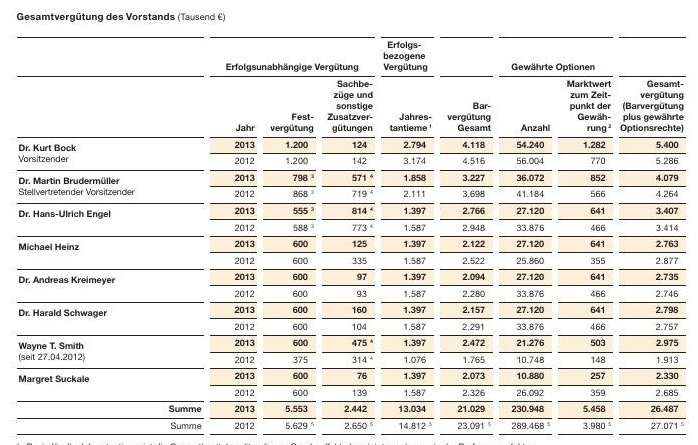table: (0, 0, 698, 445)
